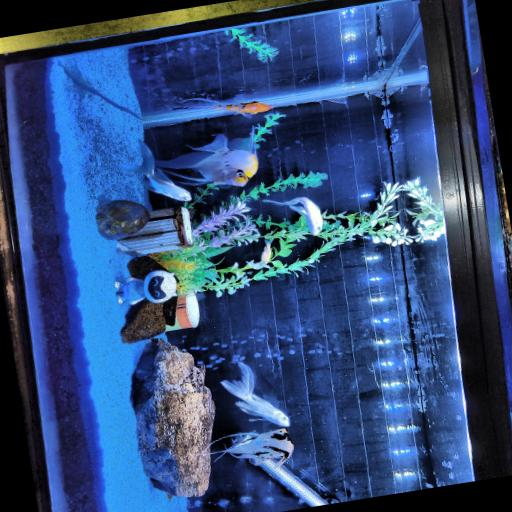Fish: (154, 130, 257, 186), (112, 141, 191, 201), (221, 363, 288, 426), (209, 429, 293, 466), (261, 197, 322, 235), (174, 95, 273, 117), (260, 240, 271, 266)
